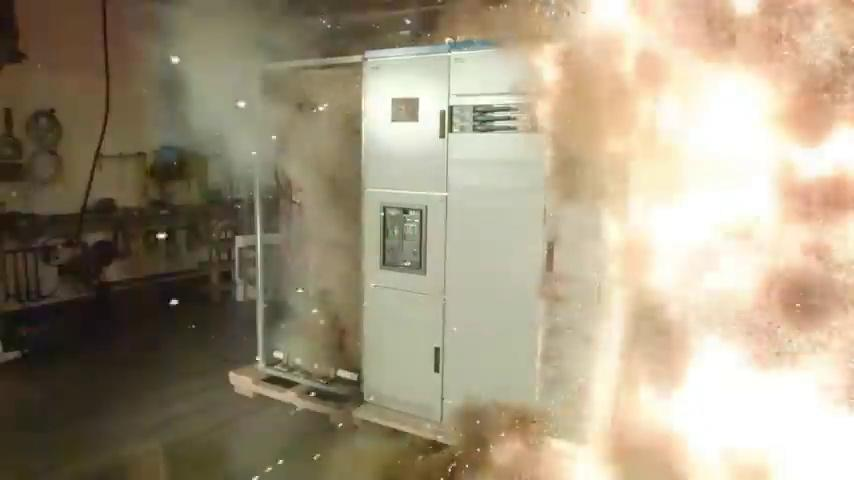fire: (490, 1, 854, 480)
